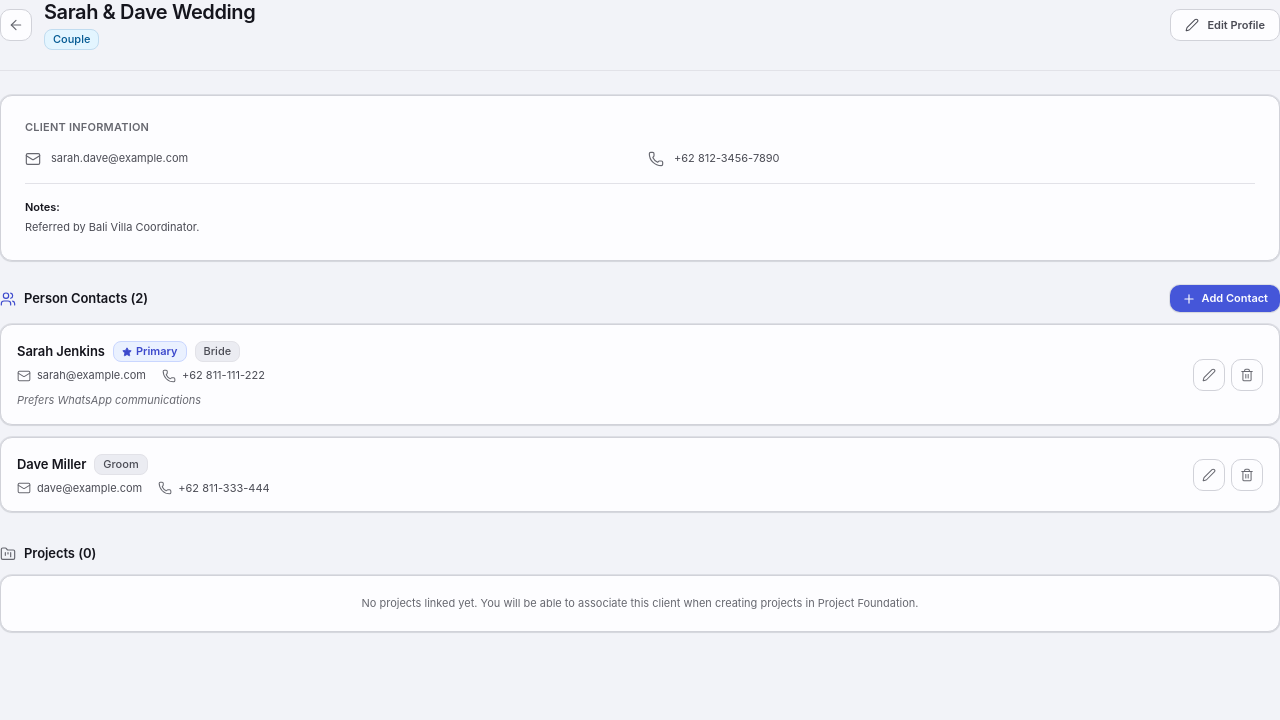
Test: ClientDetailRoute (CLIENT-REQ-004 / CLIENT-REQ-005) › opens add contact modal and creates a new contact (CLIENT-REQ-005)
This screenshot has width=1280, height=720.
Expected: the heading "Sarah & Dave Wedding" is shown, left=44, top=0, right=255, bottom=25
Click the button with test id "add-contact-btn" at point(1225, 299), box left=1170, top=285, right=1279, bottom=312
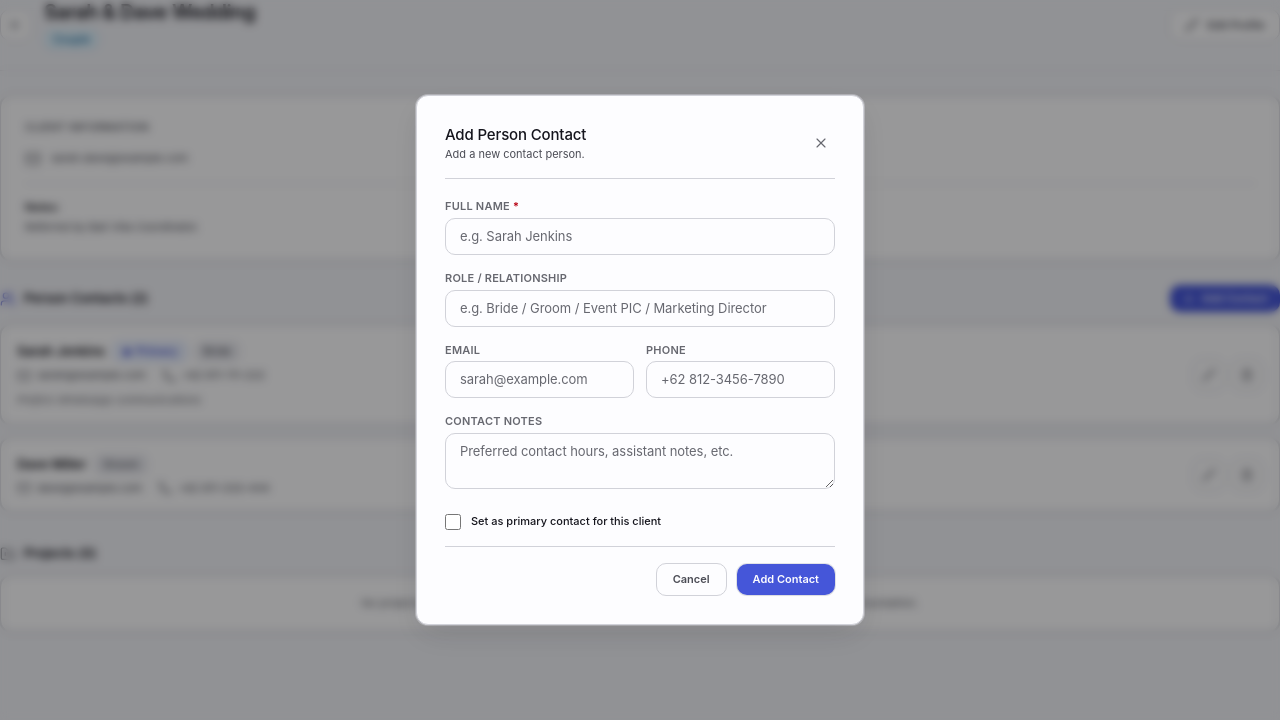
Expected: the heading "Add Person Contact" is shown, left=445, top=124, right=586, bottom=145
Type "Jessica Bridesmaid" into the field labelled "Full Name *" at point(640, 236), box left=445, top=218, right=835, bottom=255
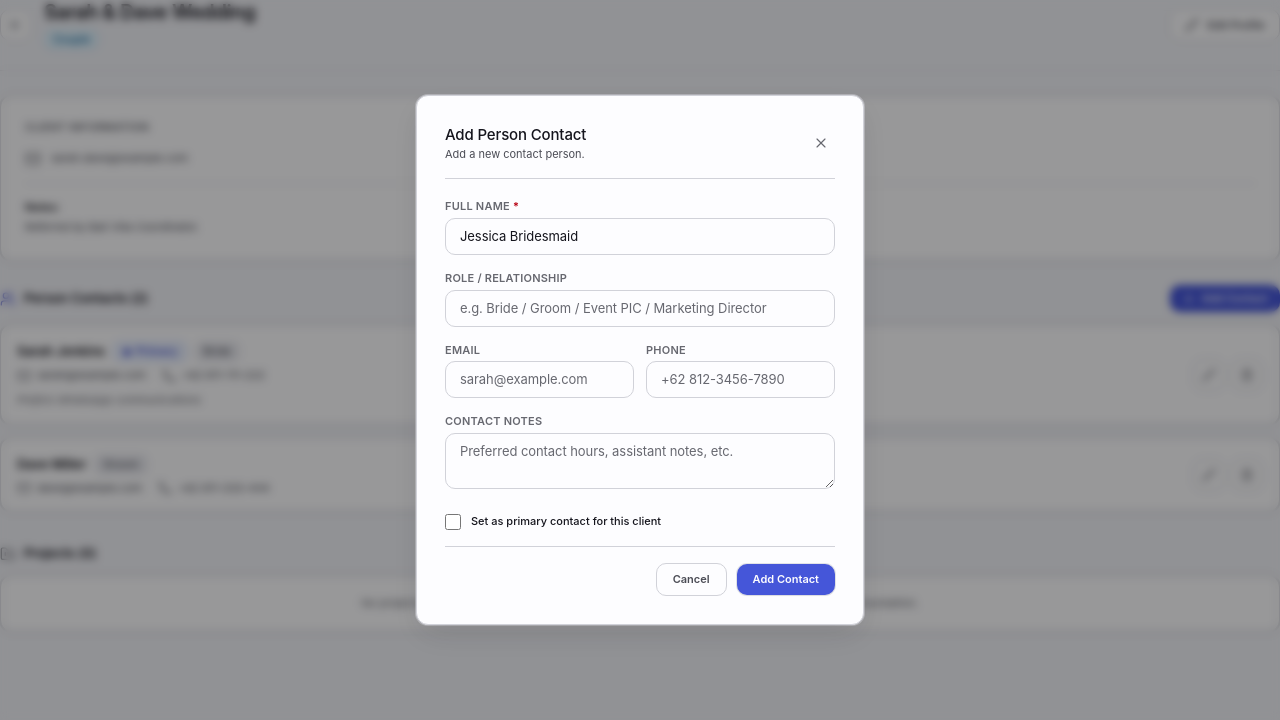
Type "Bridesmaid PIC" into the field labelled "Role / Relationship" at point(640, 308), box left=445, top=290, right=835, bottom=326
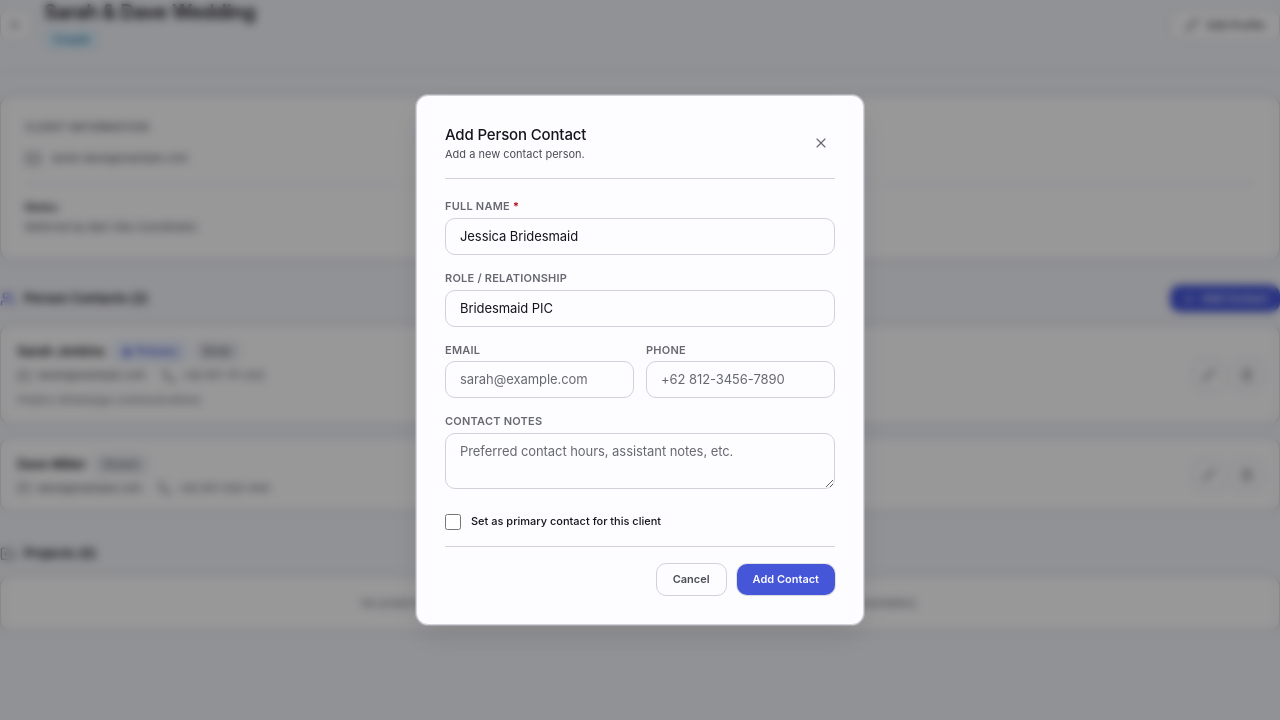
Type "jessica@example.com" into the field labelled "Email" at point(540, 380), box left=445, top=361, right=634, bottom=398
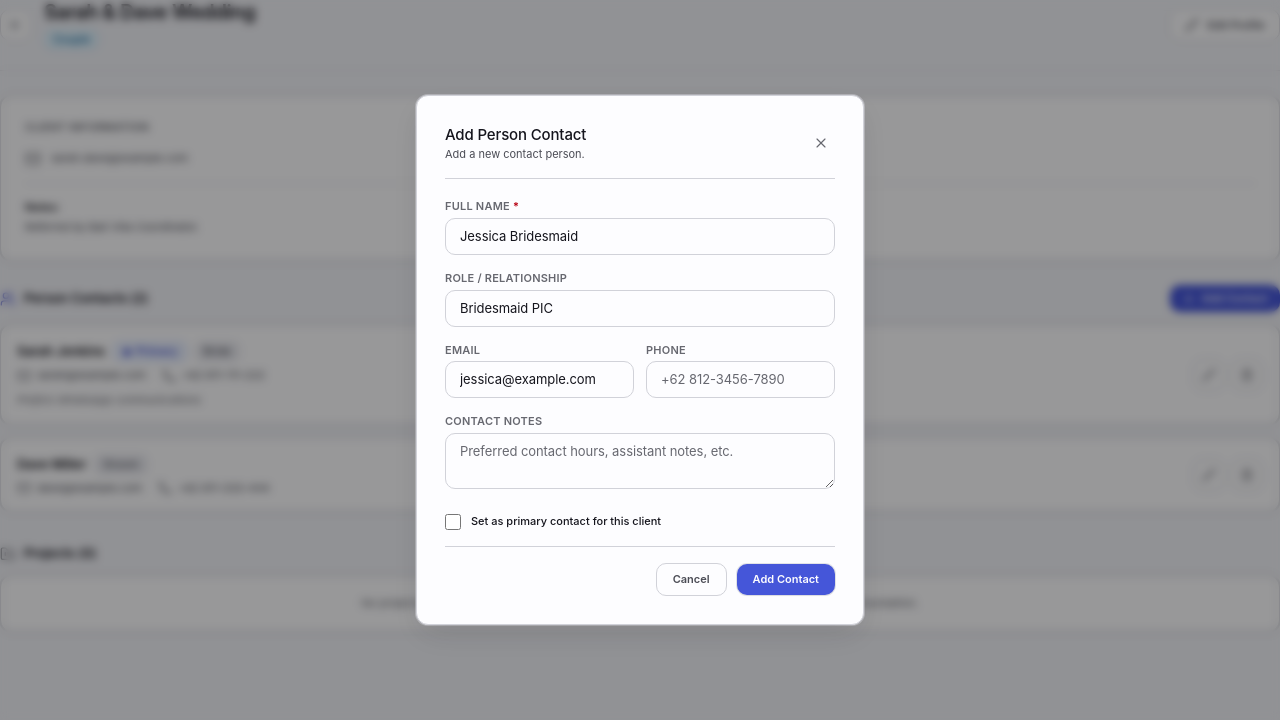
Click the button with test id "save-contact-button" at point(786, 579), box left=737, top=564, right=835, bottom=595
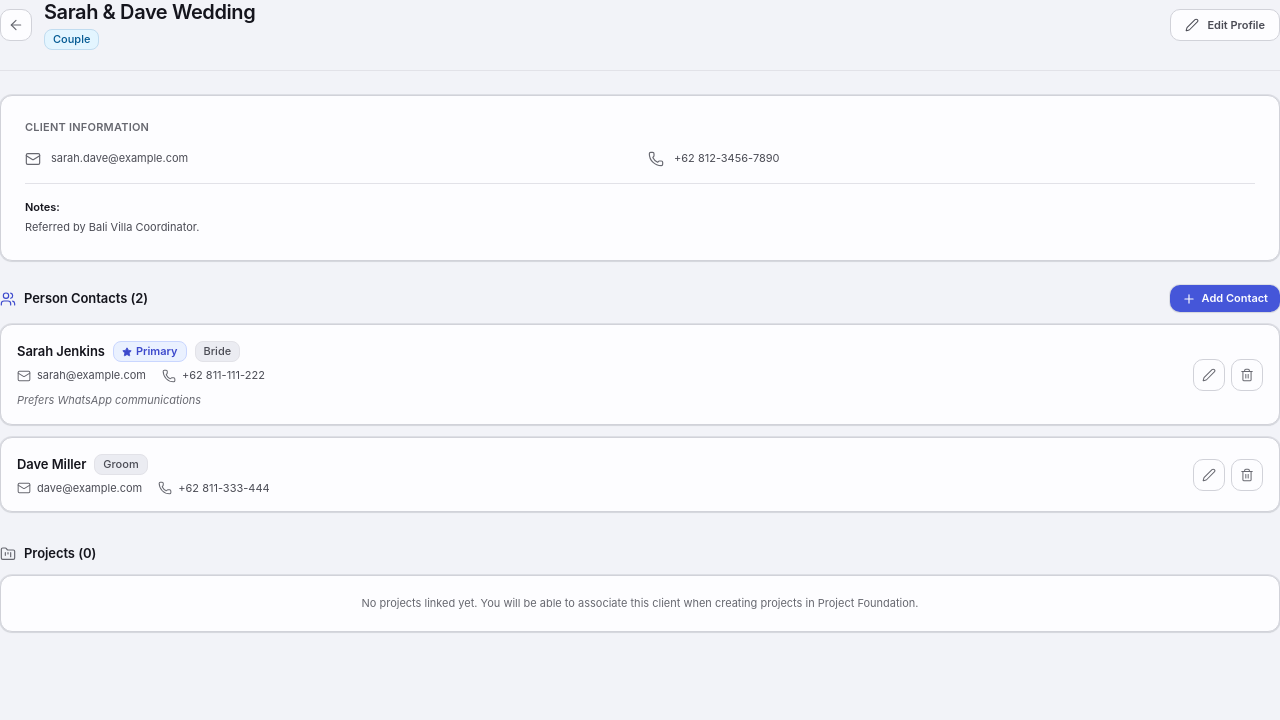
Expected: the heading "Add Person Contact" is gone
